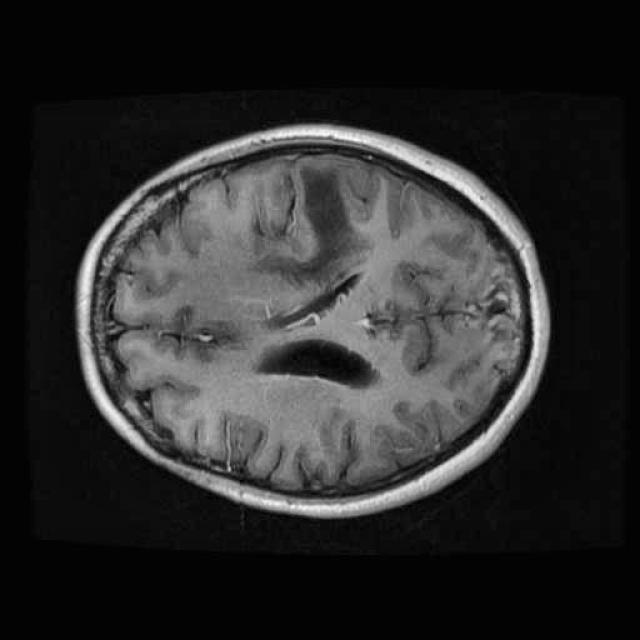Non-Tumor: (246, 160, 368, 289)
